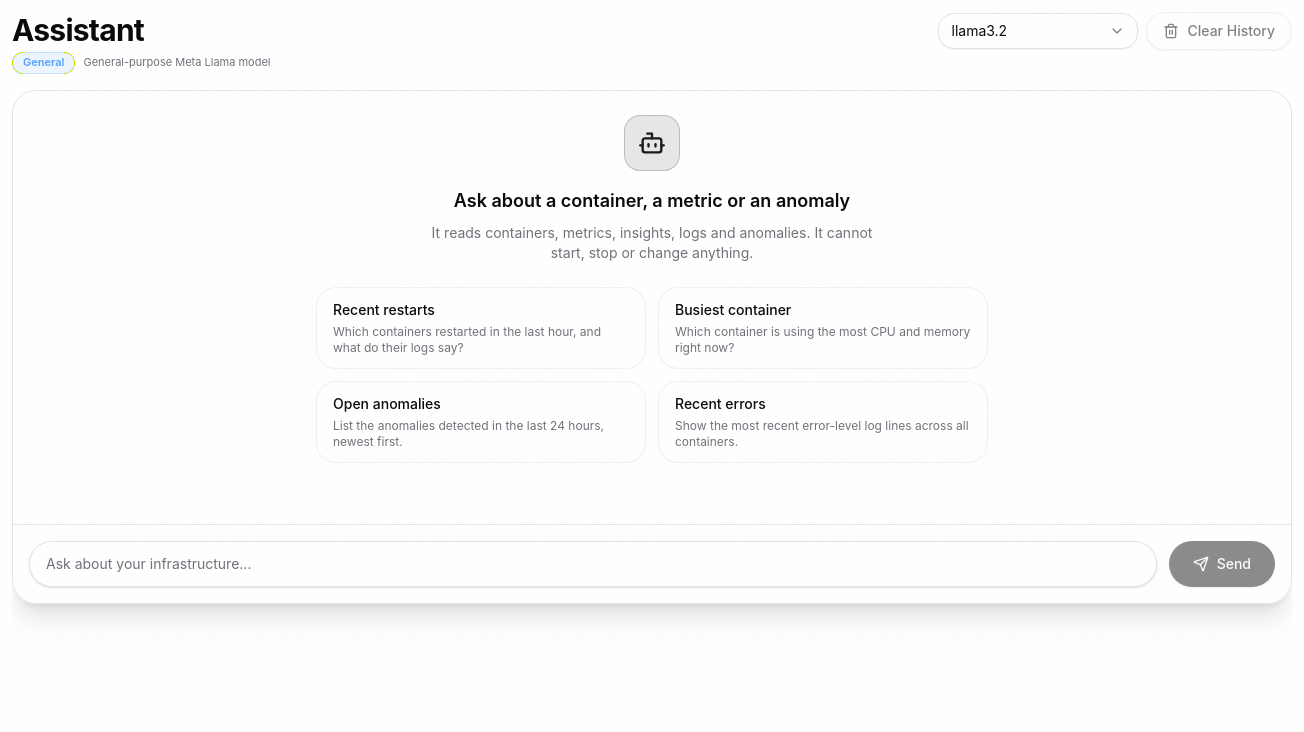
Test case: LlmAssistantPage › renders model selector with available models
Click the dropdown at point(1038, 31), box left=938, top=13, right=1138, bottom=49
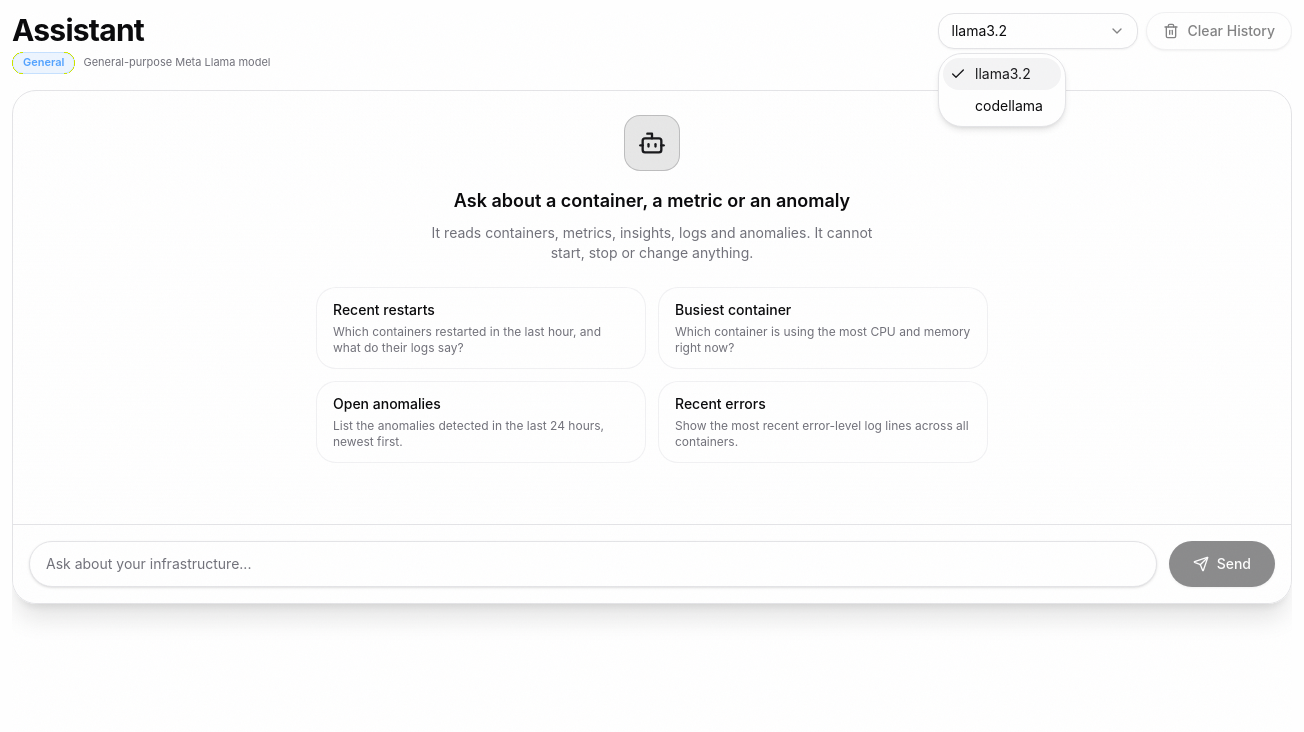
Expected: the option "llama3.2" is shown, left=943, top=58, right=1061, bottom=90
Expected: the option "codellama" is shown, left=975, top=97, right=1043, bottom=114
